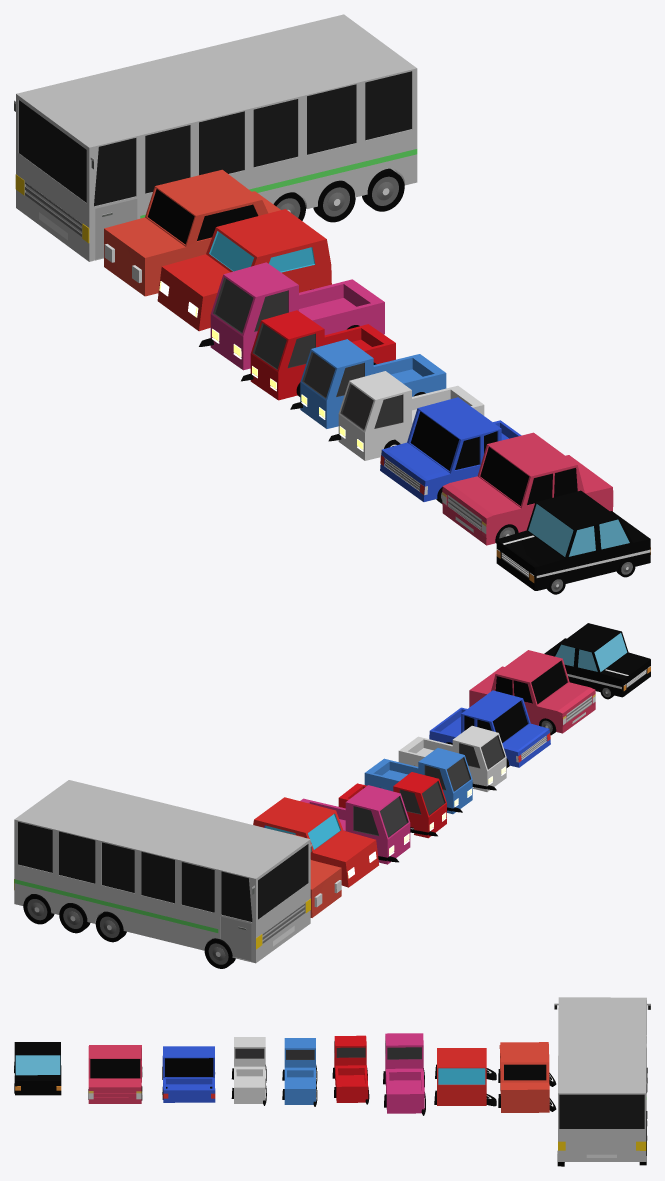
The model's file is toony.glb.
3 renders of one model, top to bottom at view 1: azimuth 30°, elevation 25°; view 2: azimuth 150°, elevation 25°; view 3: azimuth 270°, elevation 25°, orthographic. The views are drawn at different scales.
Visible parts, largest first — view 1: Cube.008, Cube.004, Cube.011, Cube.002, Cube, Cube.005, Cube.001, Cube.012, Cube.013, Cube.014, tyre_.004_Cylinder.003, tyre_.005_Cylinder.005; view 2: Cube.008, Cube.002, Cube.011, Cube, Cube.001, Cube.005, Cube.012, Cube.014, Cube.013, Cube.004, tyre_.003_Cylinder.002, tyre_.001_Cylinder.000 (+2 smaller); view 3: Cube.008, Cube.004, Cube.002, Cube.005, Cube.001, Cube.011, Cube, Cube.013, Cube.014, Cube.012.
Part boxes in pixels (x1,y1,x2,y2): Cube.008: (14, 14, 417, 261); Cube.004: (104, 169, 280, 296); Cube.011: (157, 209, 331, 331); Cube.002: (442, 432, 613, 545); Cube: (496, 490, 650, 590); Cube.005: (210, 262, 384, 370); Cube.001: (380, 397, 521, 501); Cube.012: (338, 371, 484, 460); Cube.013: (250, 310, 395, 400); Cube.014: (300, 339, 446, 428); tyre_.004_Cylinder.003: (362, 168, 404, 211); tyre_.005_Cylinder.005: (313, 180, 355, 222); Cube.008: (14, 780, 311, 963); Cube.002: (469, 650, 595, 733); Cube.011: (253, 797, 378, 887); Cube: (544, 623, 650, 697); Cube.001: (429, 690, 550, 767); Cube.005: (300, 785, 410, 864); Cube.012: (398, 725, 506, 791); Cube.014: (364, 748, 472, 814); Cube.013: (338, 772, 446, 838); Cube.004: (282, 832, 341, 917); tyre_.003_Cylinder.002: (204, 938, 235, 968); tyre_.001_Cylinder.000: (59, 903, 90, 933); Cube.008: (554, 997, 650, 1161); Cube.004: (499, 1042, 549, 1112); Cube.002: (88, 1045, 141, 1103); Cube.005: (385, 1033, 424, 1113); Cube.001: (162, 1046, 215, 1102); Cube.011: (437, 1048, 486, 1105); Cube: (14, 1042, 61, 1095); Cube.013: (334, 1035, 368, 1102); Cube.014: (284, 1038, 315, 1104); Cube.012: (234, 1037, 265, 1103).
Size of what is drawn, in the model's own units: 9.61 by 3.67 by 26.07.
